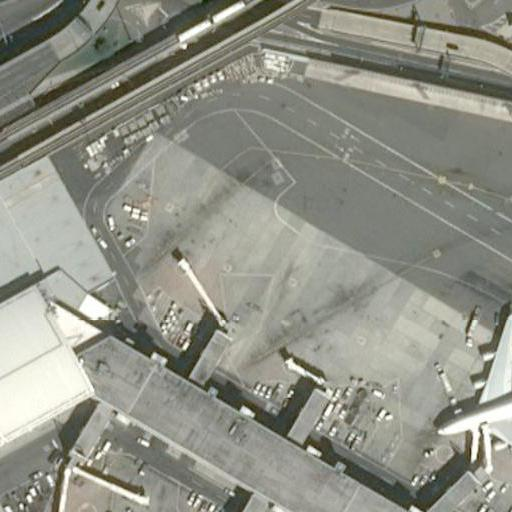Aircraft: (428, 299, 512, 486)
